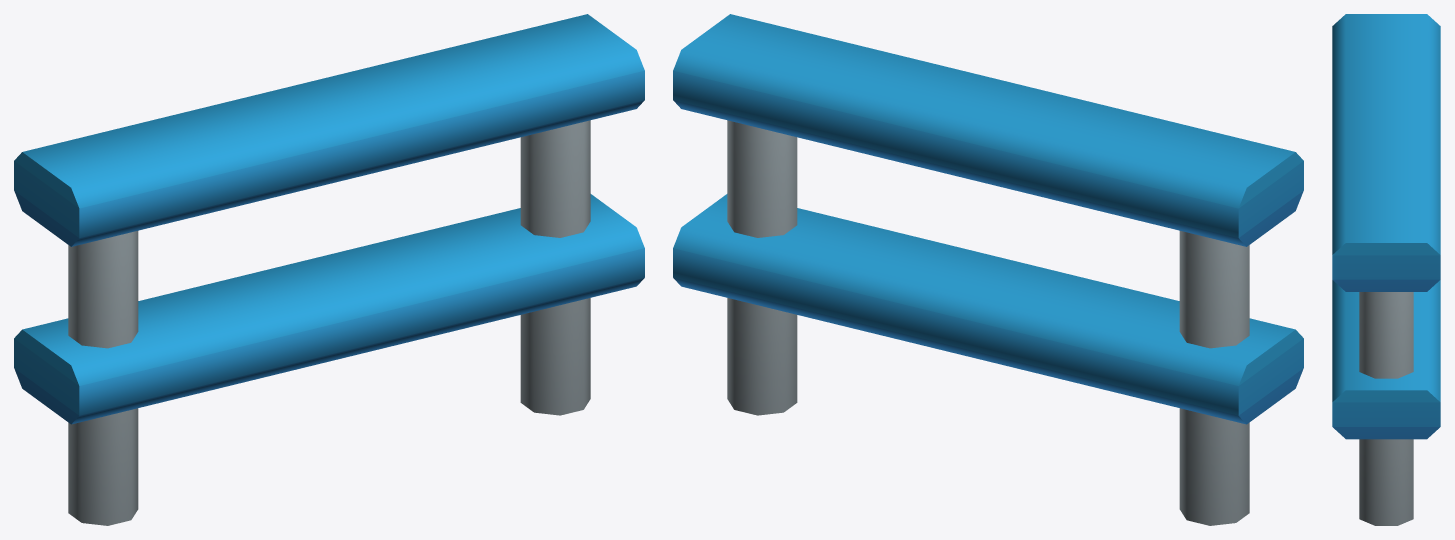
Rendered from railing_straight_double_blue.glb.
The picture shows the model from 3 angles, left to right: view 1: azimuth 30°, elevation 25°; view 2: azimuth 150°, elevation 25°; view 3: azimuth 270°, elevation 25°; orthographic projection. The views are drawn at different scales.
Visible parts, largest first — view 1: railing_straight_double_blue; view 2: railing_straight_double_blue; view 3: railing_straight_double_blue.
Part boxes in pixels (x1,y1,x2,y2): railing_straight_double_blue: [14, 14, 644, 525]; railing_straight_double_blue: [673, 14, 1303, 525]; railing_straight_double_blue: [1332, 14, 1440, 525].
Size of the model in its own units: 2 by 1.2 by 0.4.
Materials: 1 (1 with a texture image).
